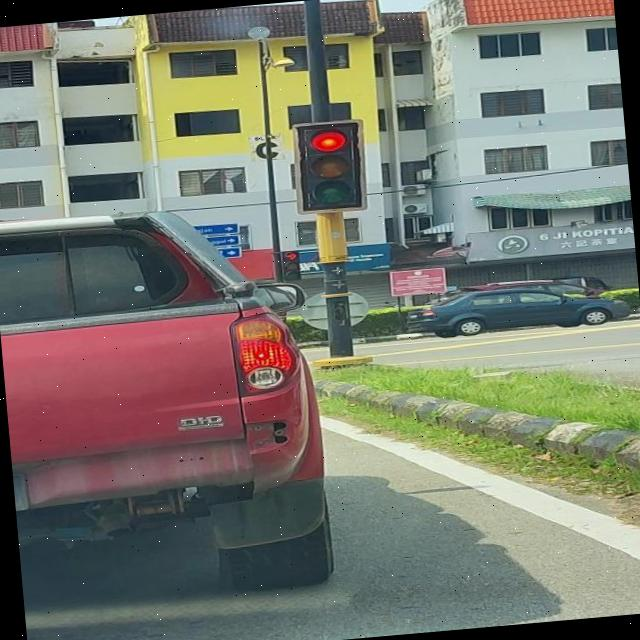red_light: (290, 117, 370, 216), (280, 250, 301, 280)
